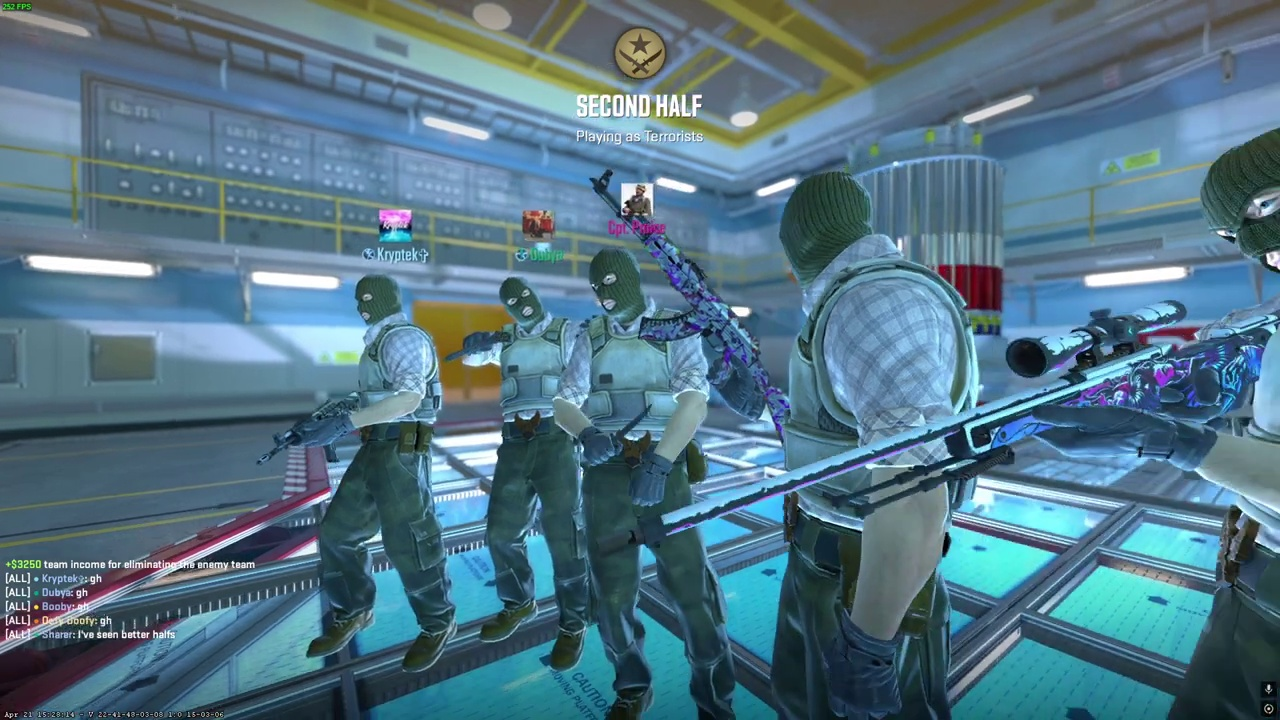Terrorist: (732, 171, 982, 720), (558, 247, 733, 720), (306, 273, 457, 674), (1182, 126, 1280, 720), (466, 276, 589, 671)
